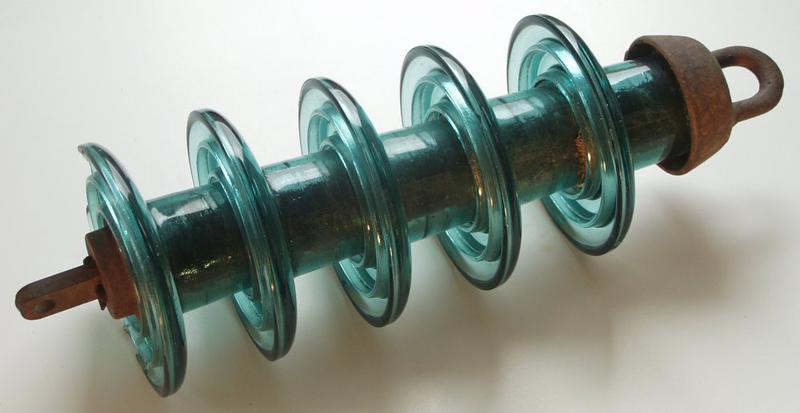isolator: (74, 13, 637, 400)
